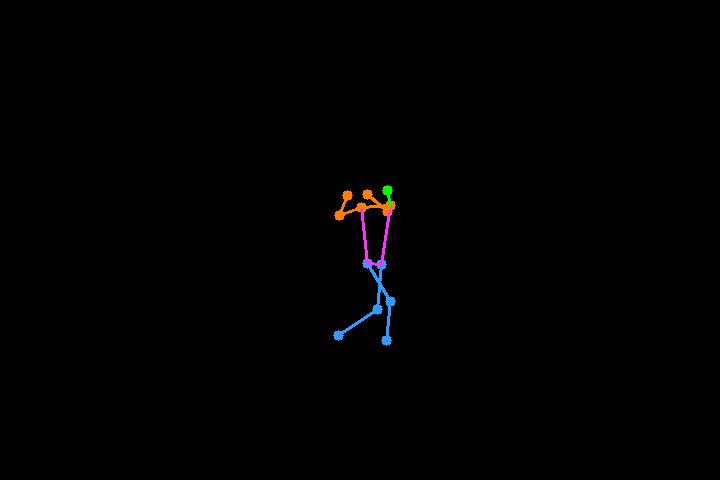normal: (319, 164, 418, 357)
